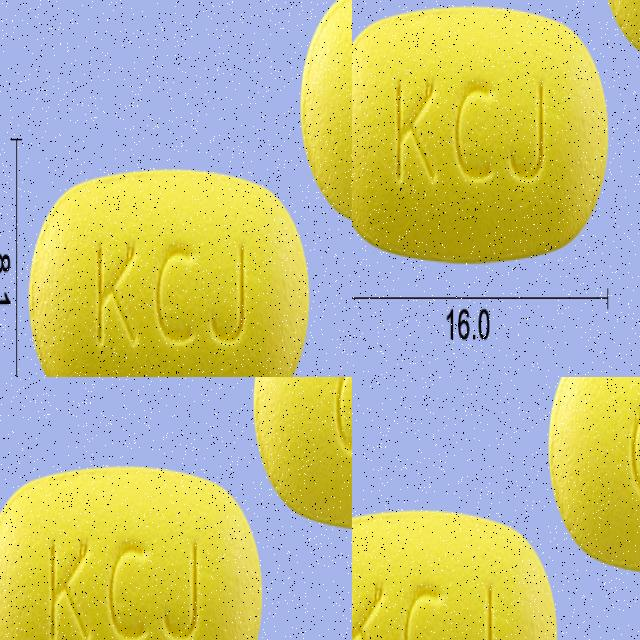Citro: (144, 182, 352, 377)
Clamon Tab: (352, 499, 562, 640), (547, 377, 640, 576)
Claricin - 250mg: (386, 76, 640, 366)
Doxiendi: (0, 377, 229, 640), (267, 377, 352, 640)
